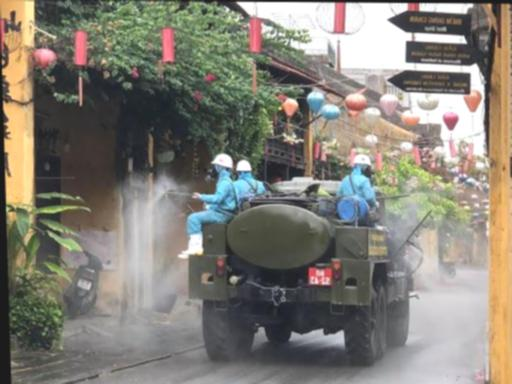License_Plate: (307, 264, 333, 286), (74, 277, 94, 292)
